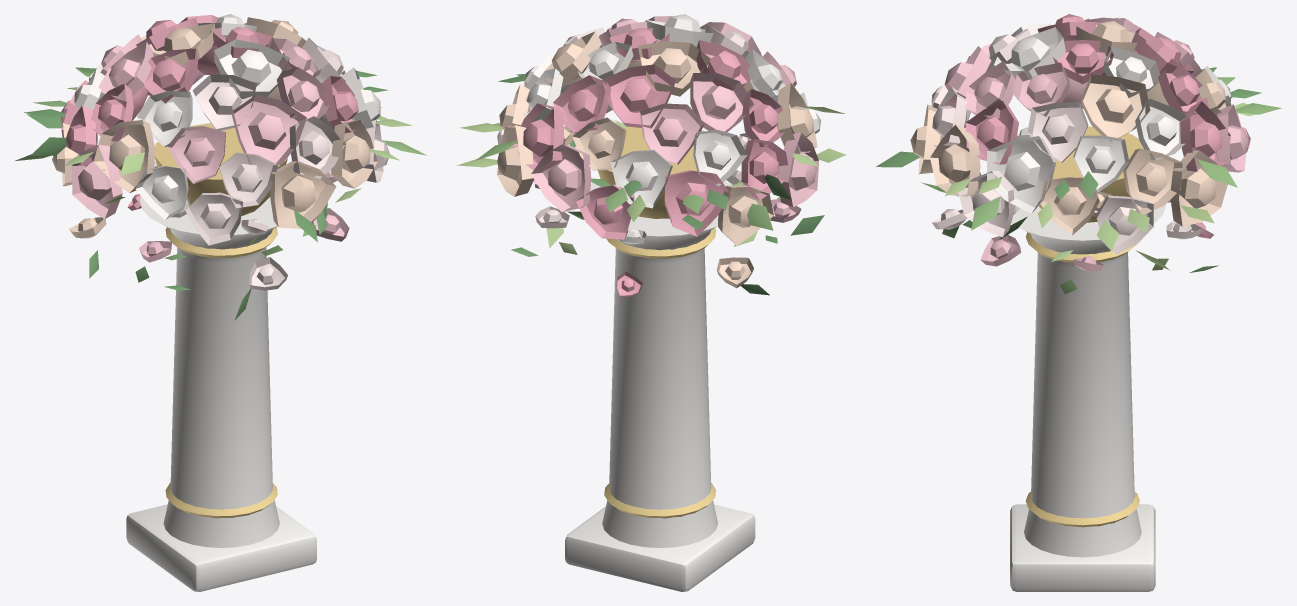
The model's file is flower-pedestal.glb.
3 renders of one model, left to right at view 1: azimuth 30°, elevation 25°; view 2: azimuth 150°, elevation 25°; view 3: azimuth 270°, elevation 25°, orthographic.
Parts seen in each view (by area): view 1: flower-pedestal; view 2: flower-pedestal; view 3: flower-pedestal.
Part boxes in pixels (bbox=[...]): flower-pedestal: bbox=[15, 14, 426, 591]; flower-pedestal: bbox=[456, 14, 846, 591]; flower-pedestal: bbox=[876, 14, 1282, 591].
Bounding box in the file's own units: 1.14 × 1.68 × 1.17.
